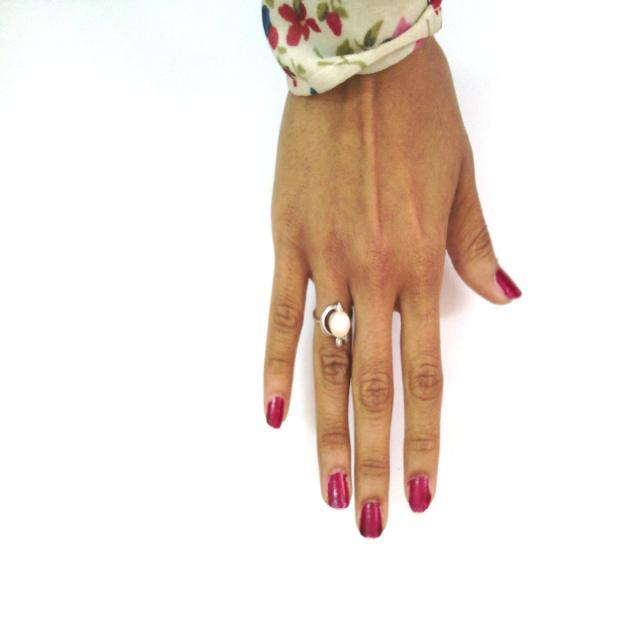Fingernail: (360, 500, 383, 538), (328, 472, 349, 509), (410, 476, 430, 513), (496, 270, 521, 299), (268, 397, 283, 429)
